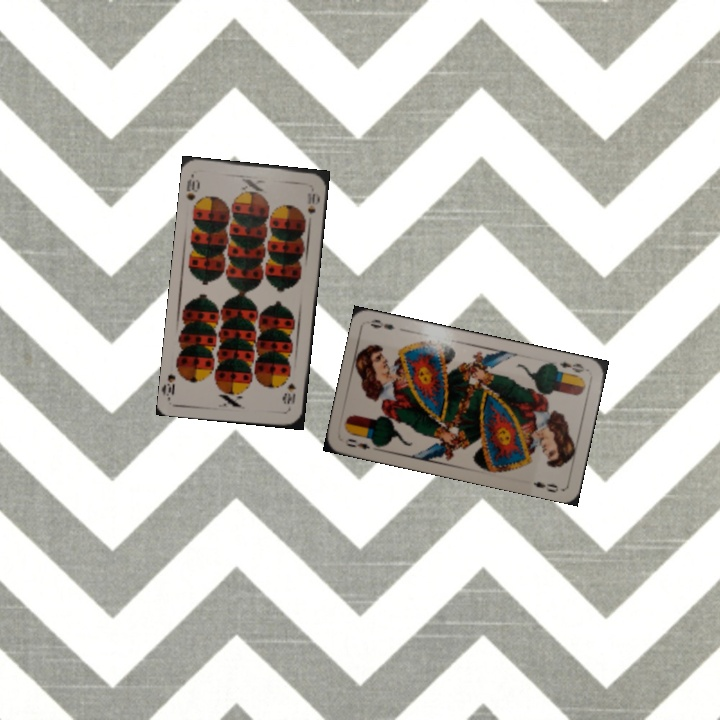EO: (555, 357, 587, 375), (341, 434, 372, 452)
S10: (182, 172, 203, 203), (281, 379, 298, 412)
